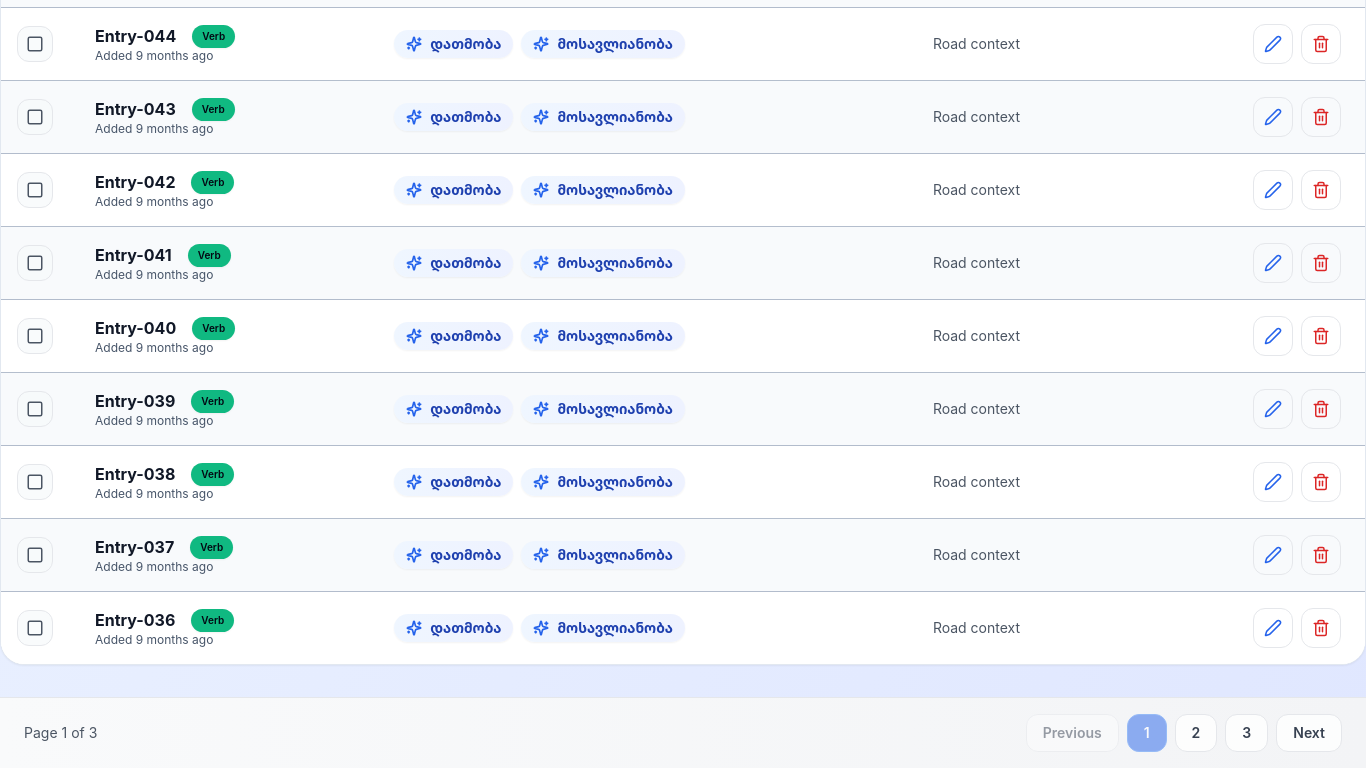
Test: Words display preferences › resets only the page when either preference changes, preserving the other choice
(page scrolled)
expect the text "Page 1 of 3" is shown: met, box [24,723,97,743]
Click the button "Next" at (1309, 733), box [1276,714,1342,752]
(page scrolled)
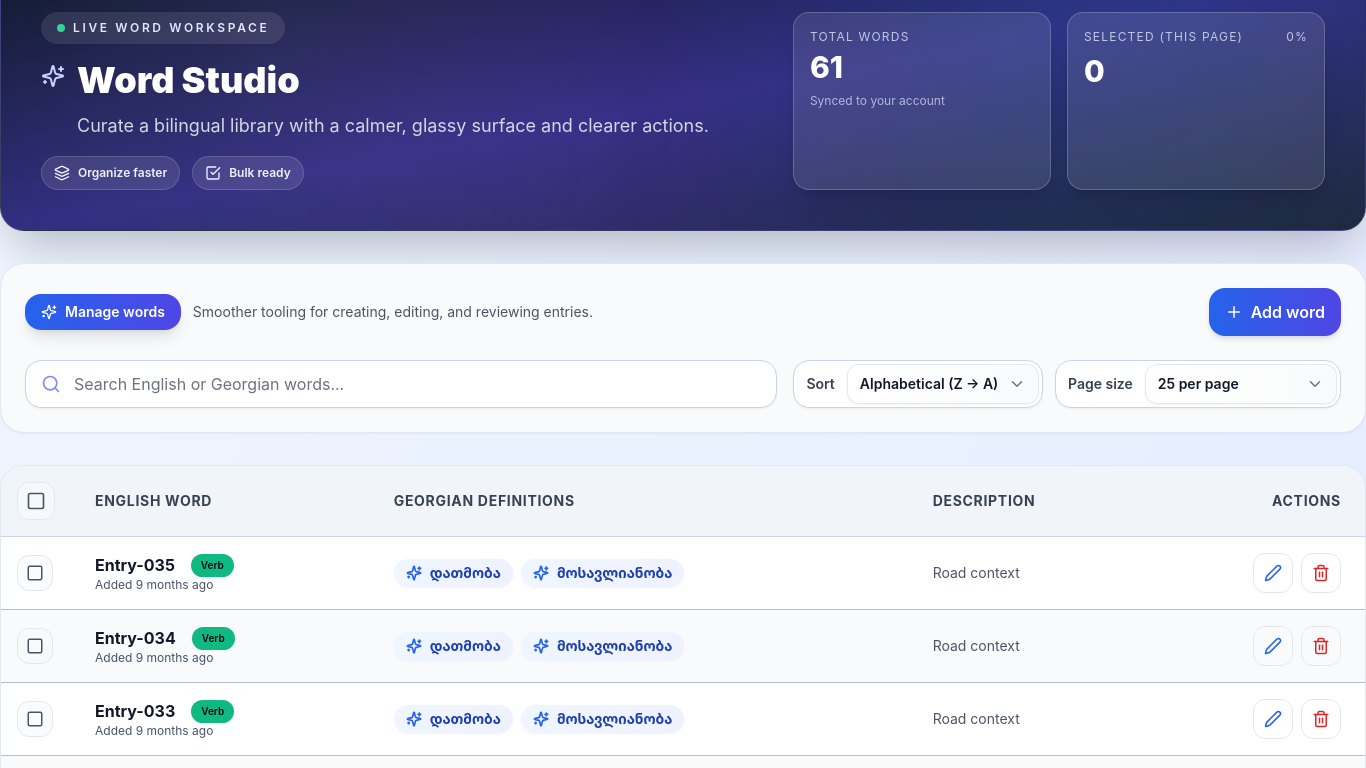
Click the button "Alphabetical (Z → A)" at (943, 384), box [847,364,1039,404]
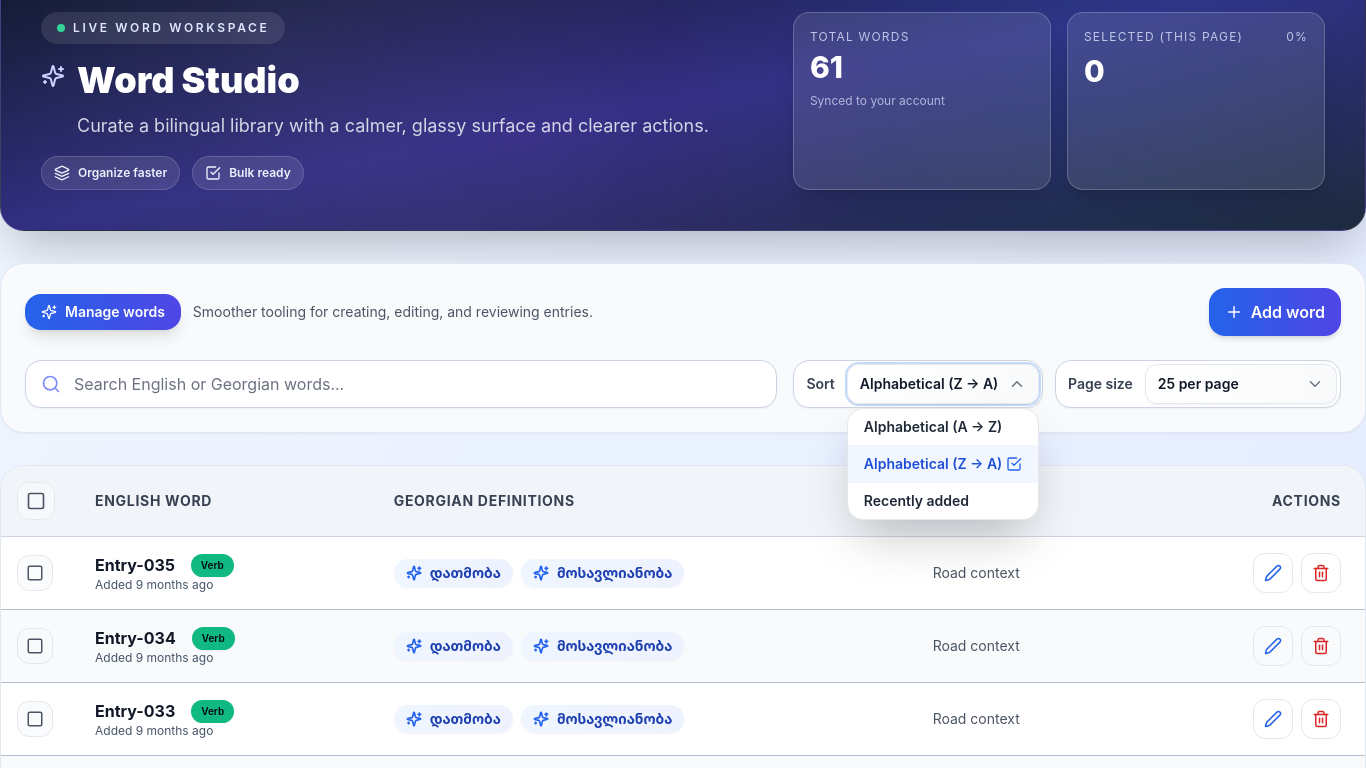
expect the button "Recently added" is shown: met
expect the button "Recently added" is enabled: met
Click the button "Recently added" at (943, 500), box [848,482,1038,519]
(page scrolled)
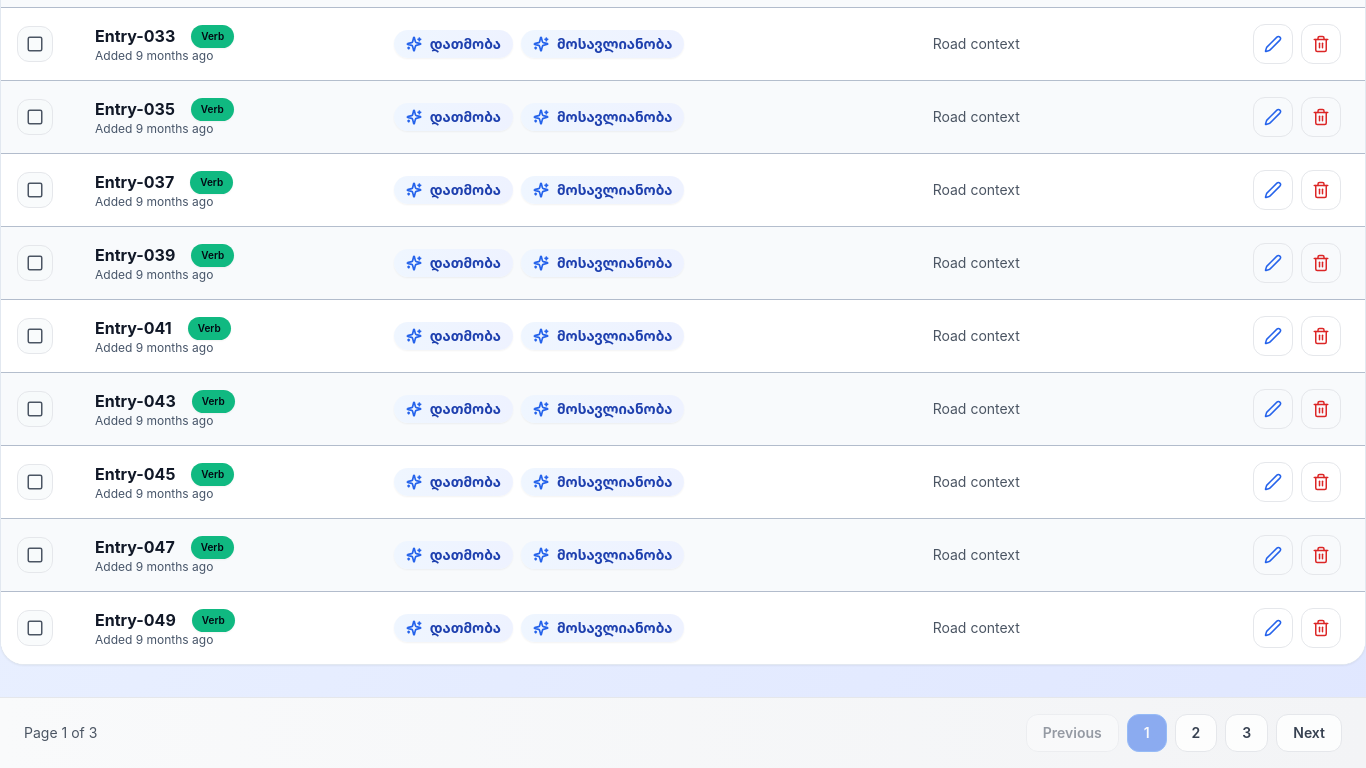
expect the text "Page 1 of 3" is shown: met, box [24,723,97,743]
Click the button "Next" at (1309, 733), box [1276,714,1342,752]
(page scrolled)
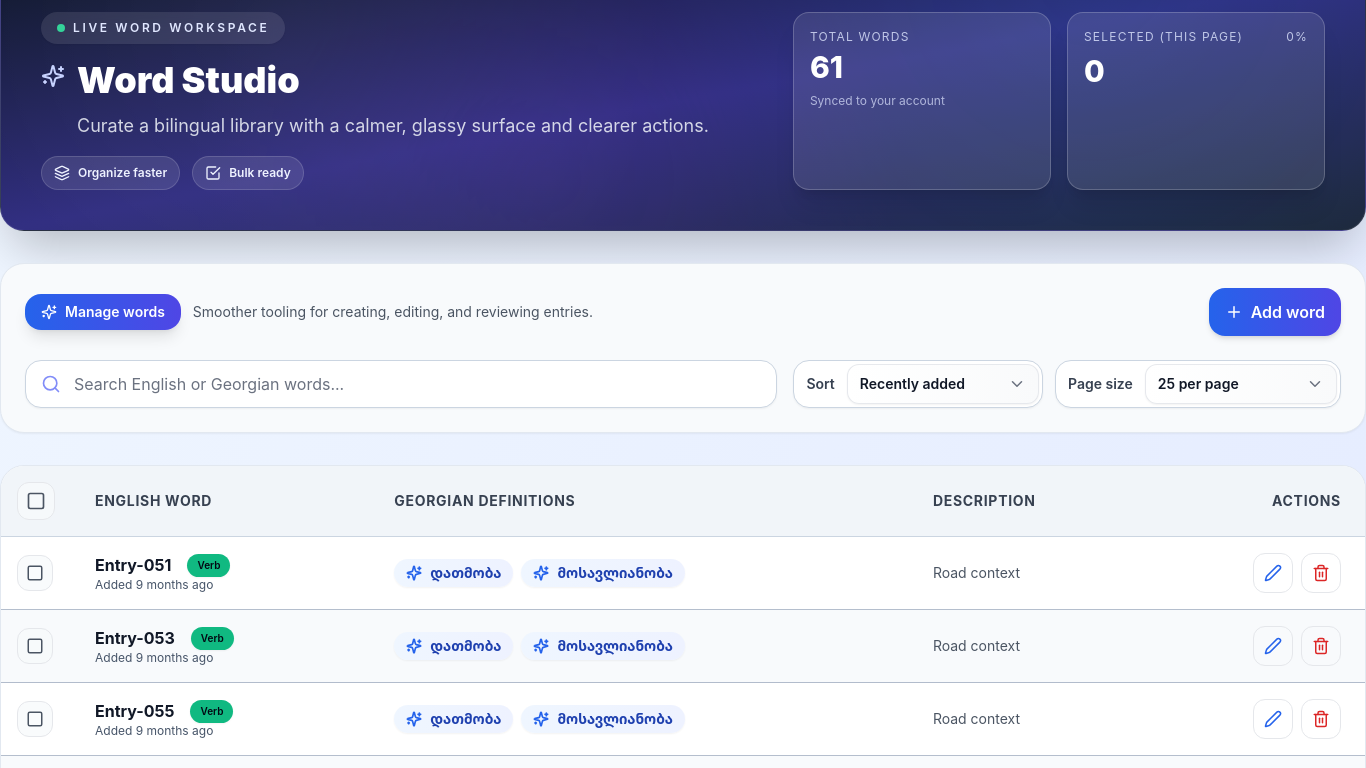
Click the button "25 per page" at (1241, 384), box [1145,364,1337,404]
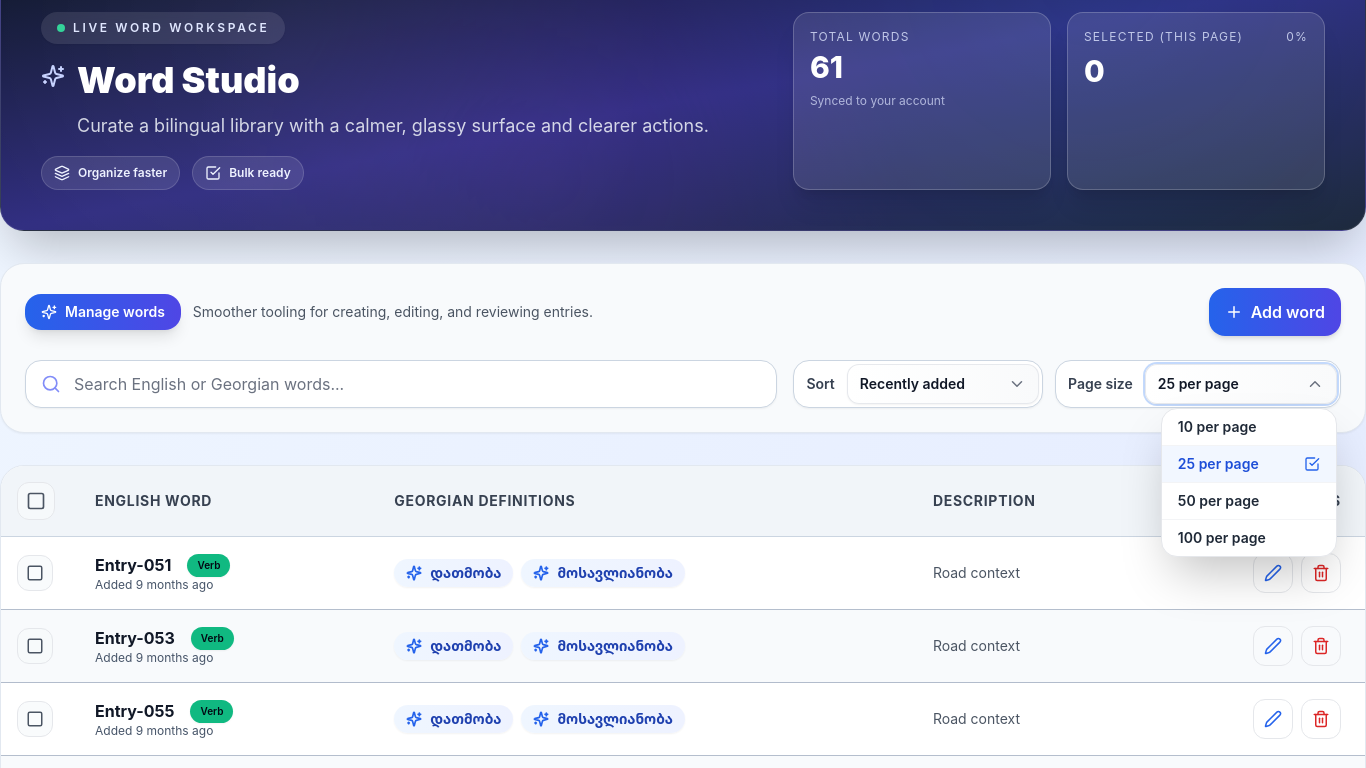
Click the button "50 per page" at (1249, 500), box [1162,482,1336,519]
(page scrolled)
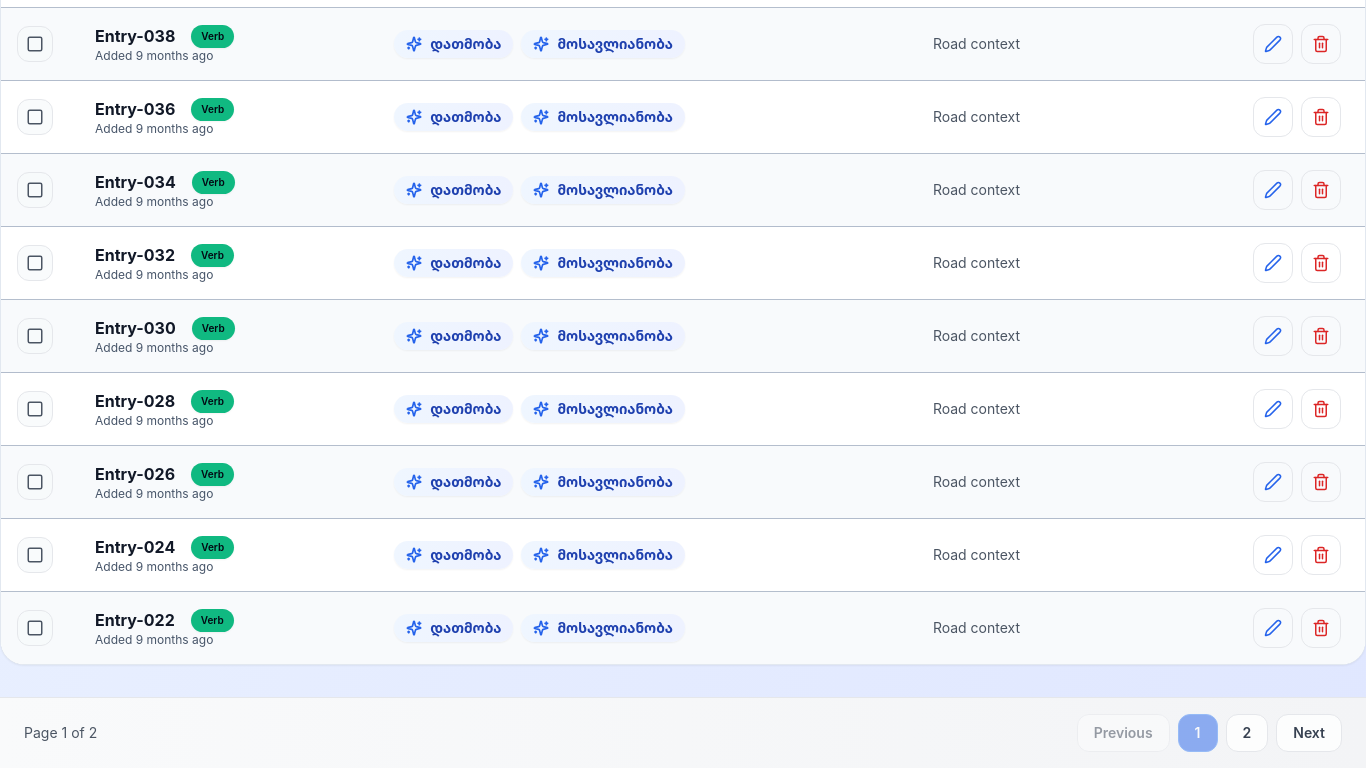
expect the text "Page 1 of 2" is shown: met, box [24,723,97,743]
